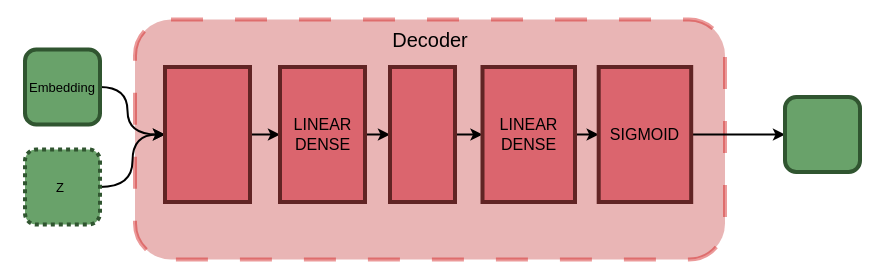
The diagram is 879 pixels wide and 278 high, and some of its shapes have lost their labels. Here are the shapes that lost their labels. From the top down, the centre of each, then its label:
the point at 207,134: CONCAT
the point at 422,134: GRU
the point at 822,134: FIR Filter
